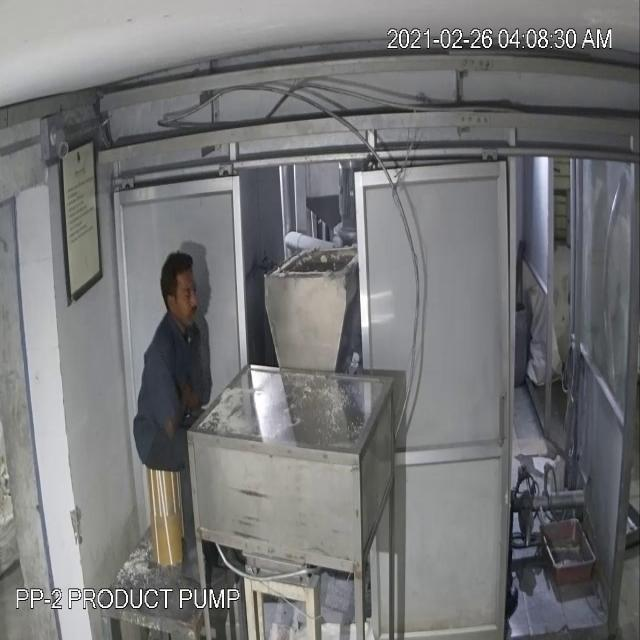no-helmet: (154, 247, 204, 300)
